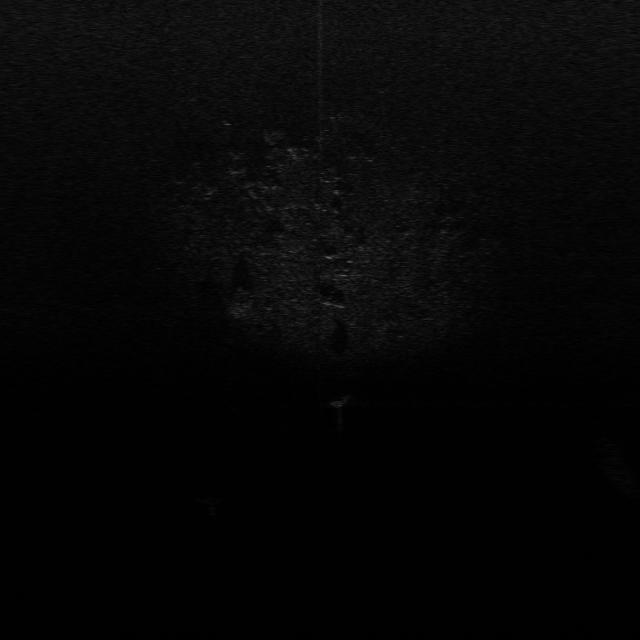cube: (196, 494, 230, 508)
square cage: (327, 392, 354, 409)
